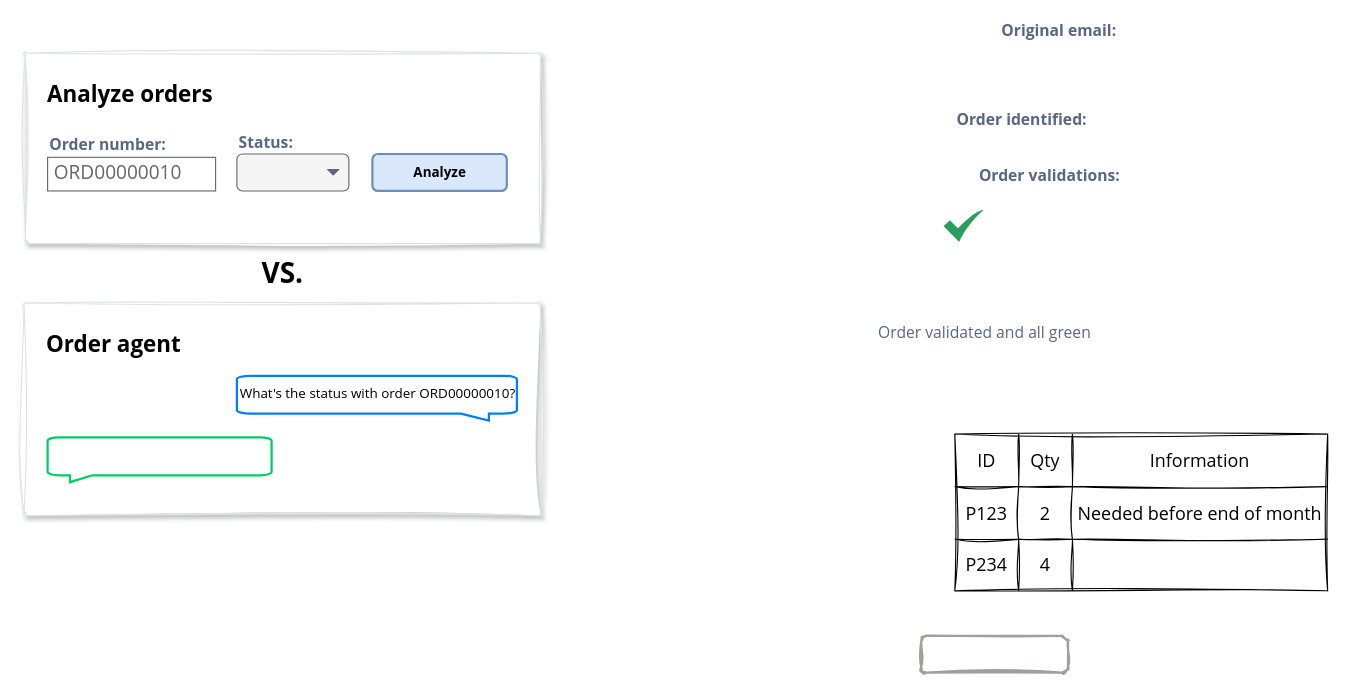
The diagram is 1347 pixels wide and 692 high, and some of its shapes have lost their labels. Here are the shapes that lost their labels. From the top down, the centre of each, then its label:
point (292, 172): Any
point (159, 459): Order is currently in ...
point (994, 653): Handle order manually
